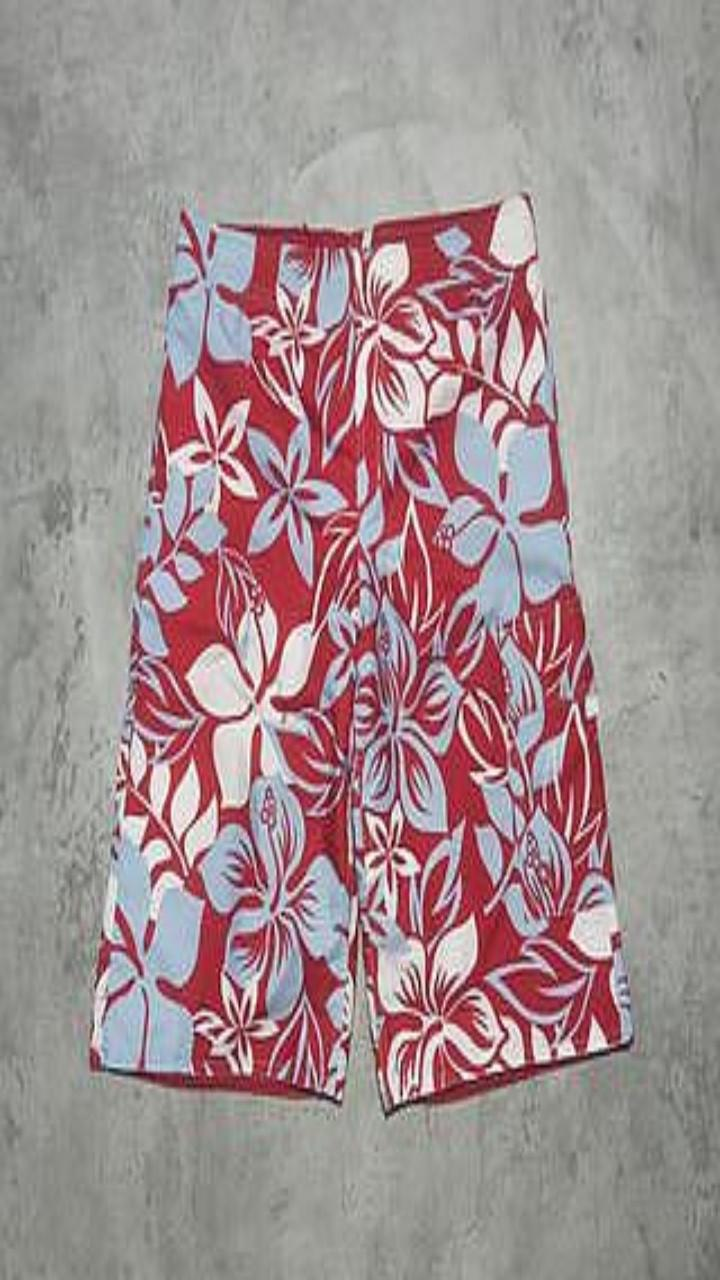Shorts: (90, 193, 632, 1111)
